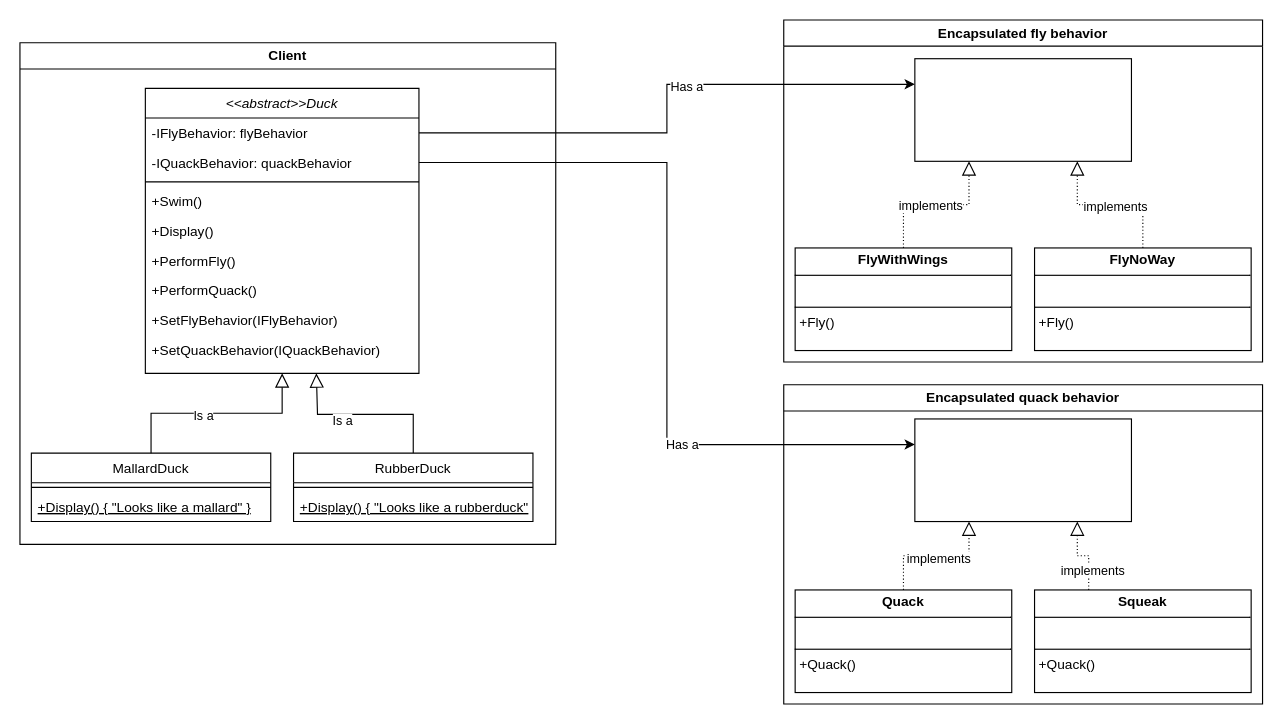
This 1283x724 diagram has some shape labels left out. The centre of each missing label's shape, as x and y in pixels:
"<<Interface>> IFlyBehavior +Fly()" goes at (1022,109).
"<<Interface>> IQuackBehavior +Quack()" goes at (1022,470).
